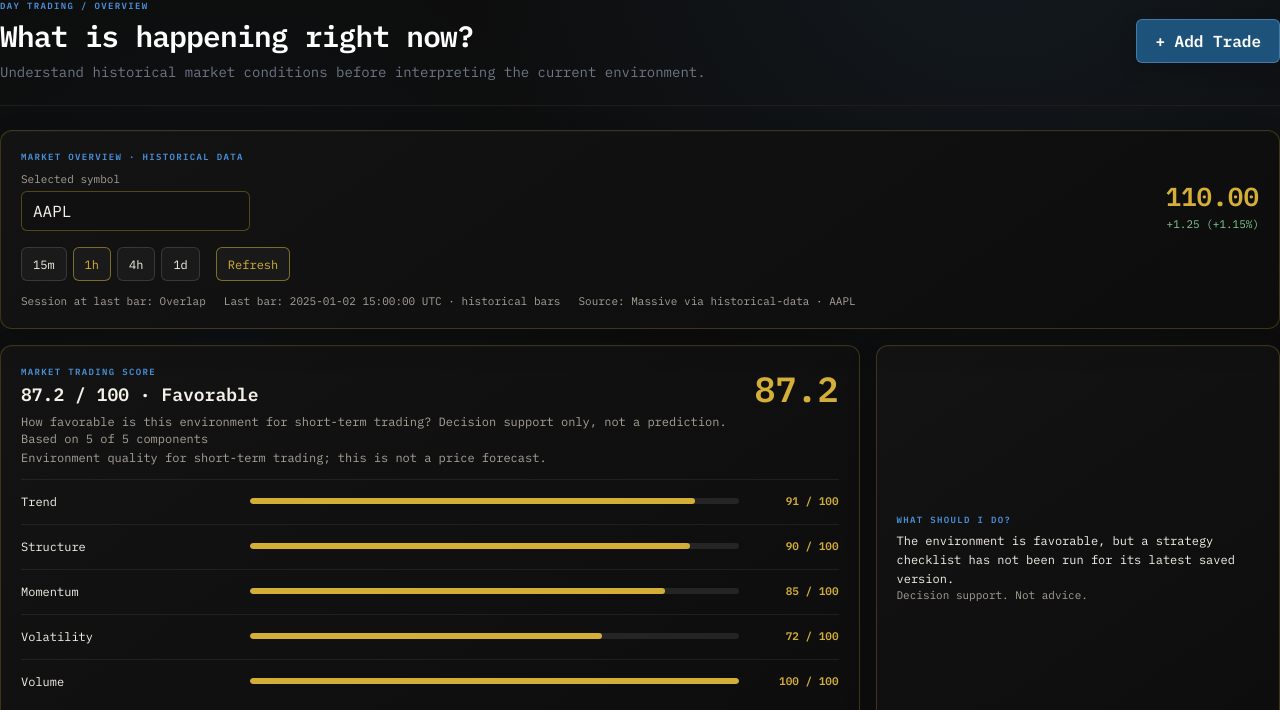
DayTradingDashboard market screens › renders the measured score and expandable evergreen explanations without live claims
Expected: the heading "87.2 / 100 · Favorable" is shown, [21,383,259,406]
Expected: the text "Based on 5 of 5 components" is shown, [21,431,208,446]
Click the text "Trend": point(39, 501) [21,494,57,509]
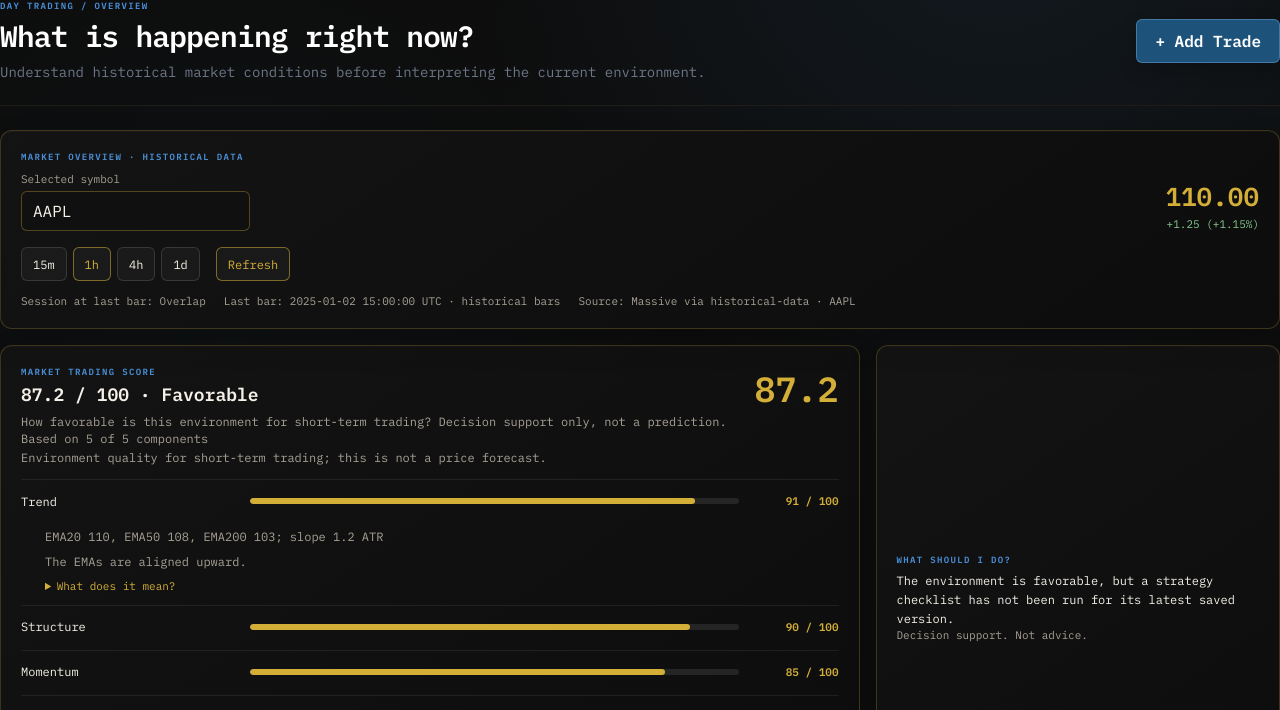
Click the heading "What does it mean?": point(116, 586) [57,579,175,593]
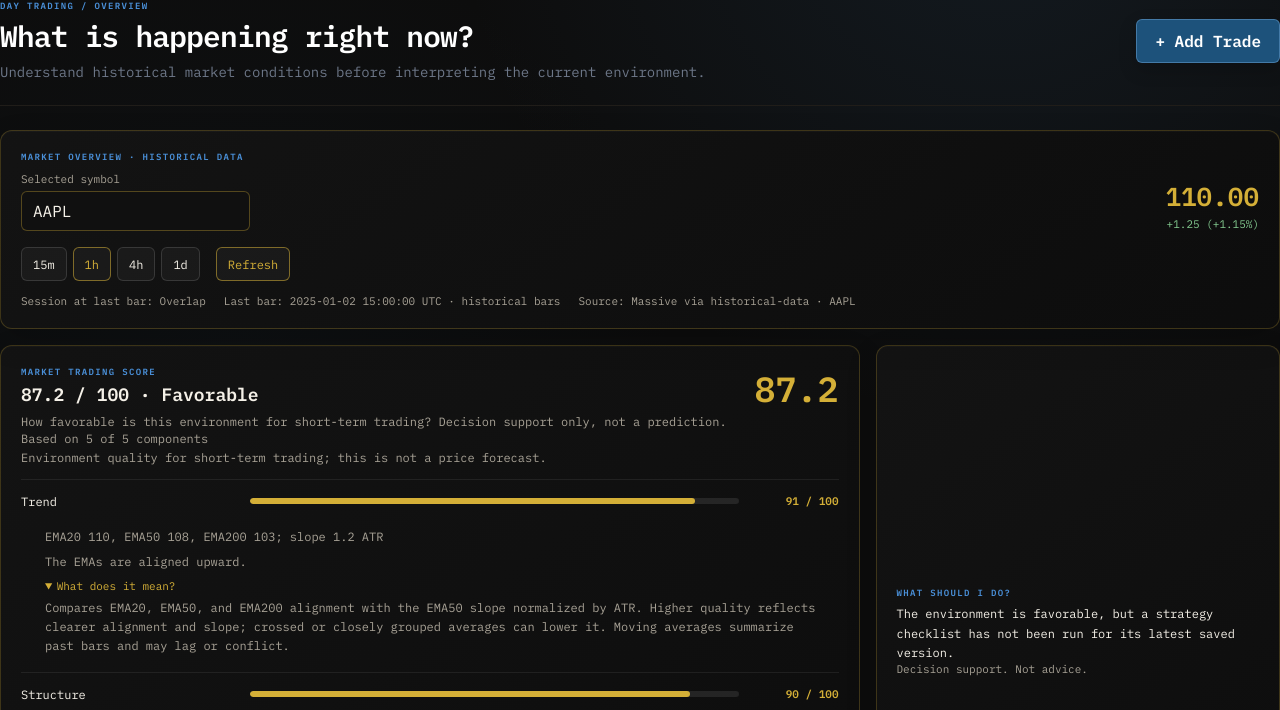
Expected: the text "Compares EMA20, EMA50, and EMA200 alignment" is shown, [45,600,815,653]
